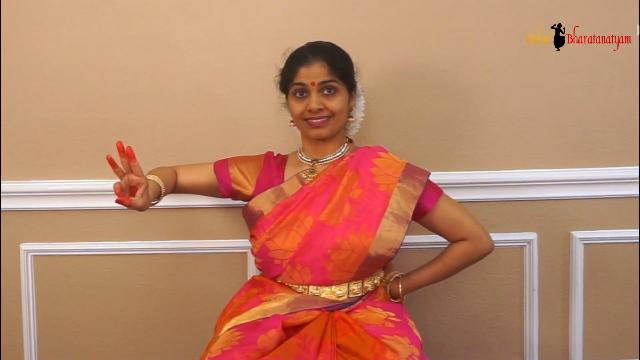trishool: (95, 129, 162, 235)
